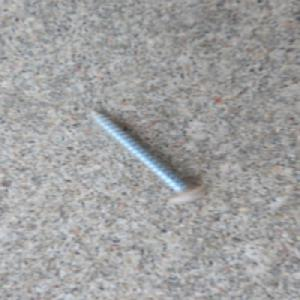Screw: (88, 108, 212, 208)
